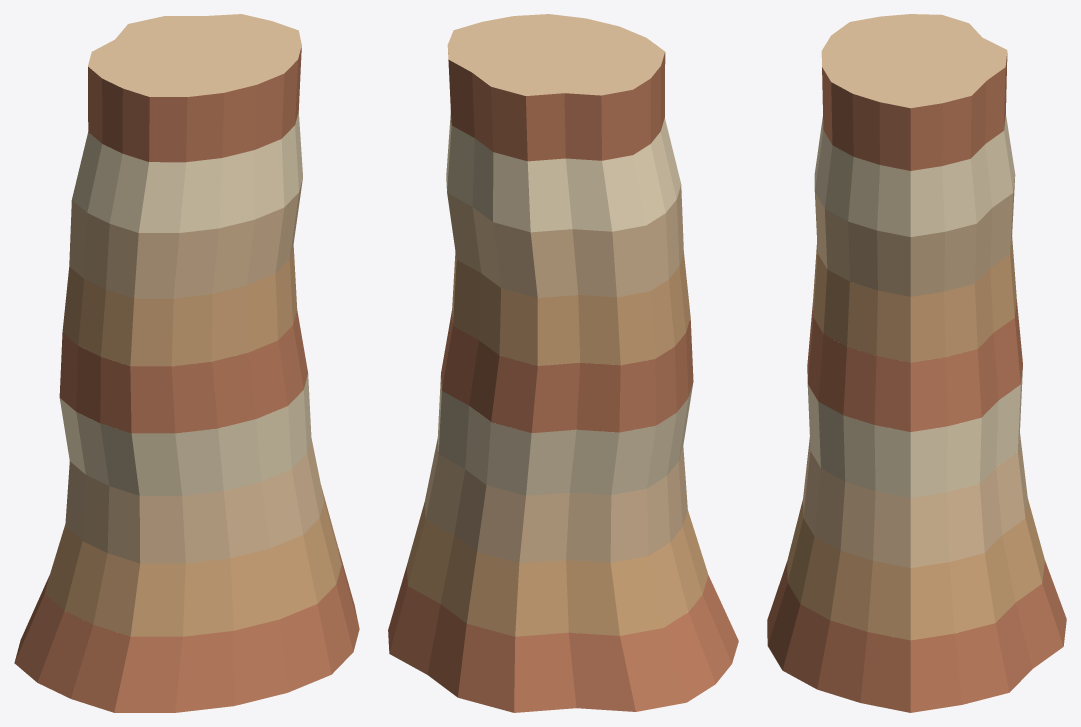
The model's file is desert-canyons-and-oases-butte-acbc1449__20920.glb.
The picture shows the model from 3 angles, left to right: view 1: azimuth 30°, elevation 25°; view 2: azimuth 150°, elevation 25°; view 3: azimuth 270°, elevation 25°; orthographic projection. The views are drawn at different scales.
Parts seen in each view (by area): view 1: butte; view 2: butte; view 3: butte.
Boxes of the visible parts, box(x1,y1,x2,y2) form: butte: box(14, 14, 359, 712); butte: box(388, 14, 738, 712); butte: box(767, 14, 1066, 712).
Bounding box in the file's own units: 6.21 × 11 × 5.17.
